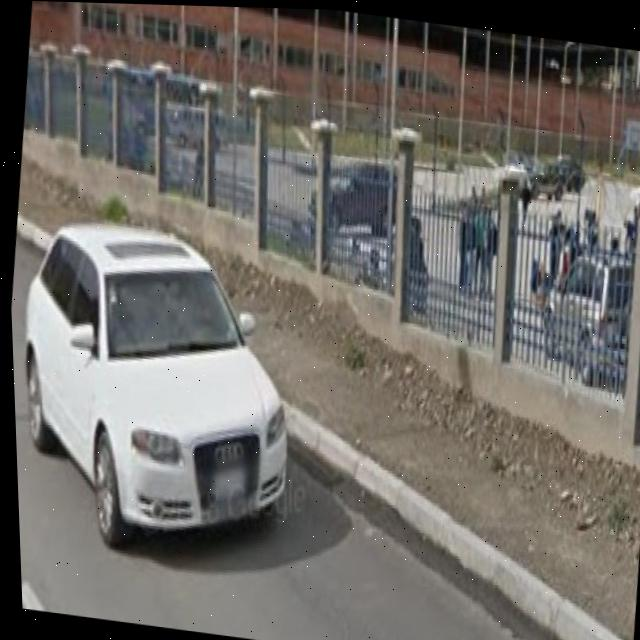vehicle: (6, 207, 305, 534)
